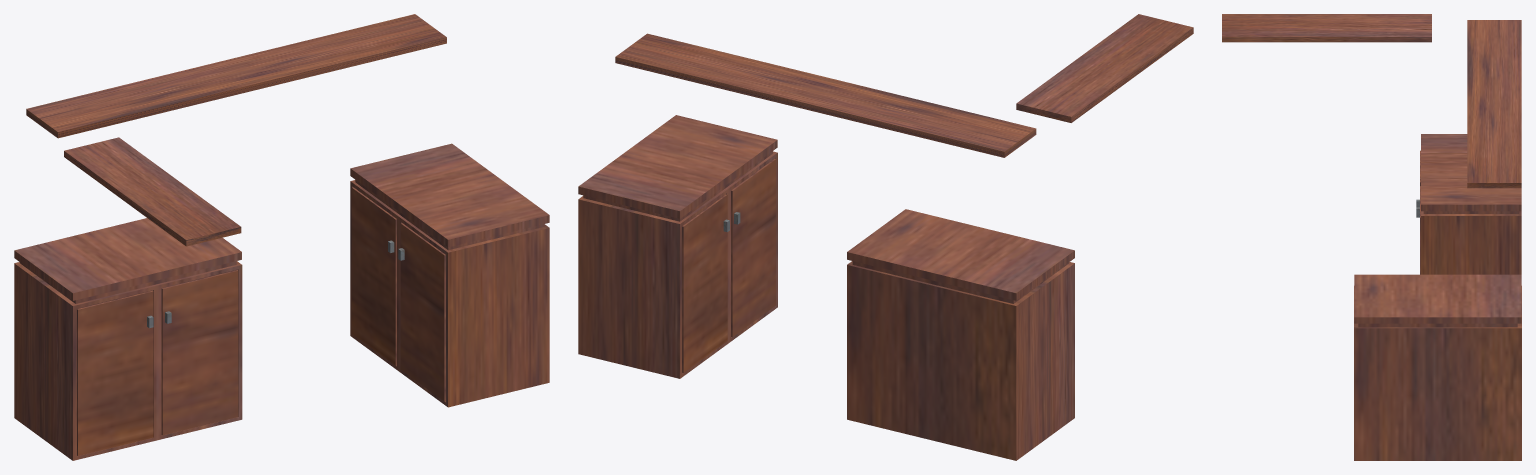
File: StorageRoom 1.fbx
3 renders of one model, left to right at view 1: azimuth 30°, elevation 25°; view 2: azimuth 150°, elevation 25°; view 3: azimuth 270°, elevation 25°, orthographic. The views are drawn at different scales.
Visible parts, largest first — view 1: Cube.080; view 2: Cube.080; view 3: Cube.080.
Boxes of the visible parts, x1,y1,x2,y2 form: Cube.080: (14,14,549,460); Cube.080: (578,14,1193,460); Cube.080: (1222,14,1521,460).
Size of the model in its own units: 238 by 158 by 164.
